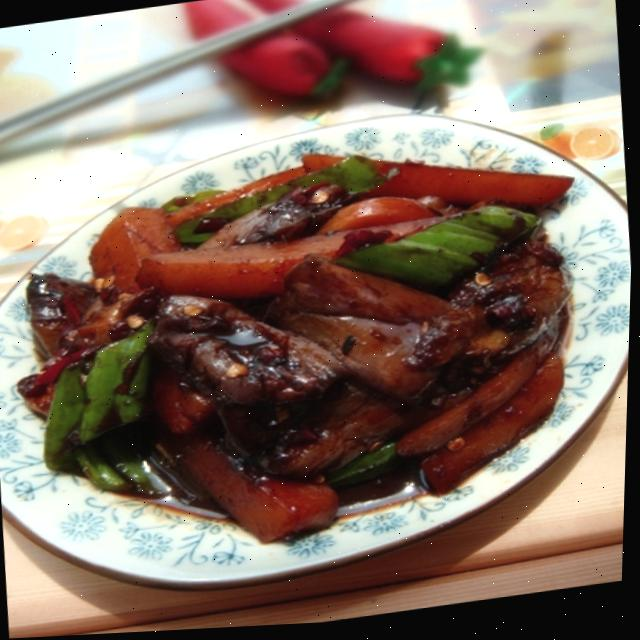鸡蛋料理: (0, 59, 637, 609)
